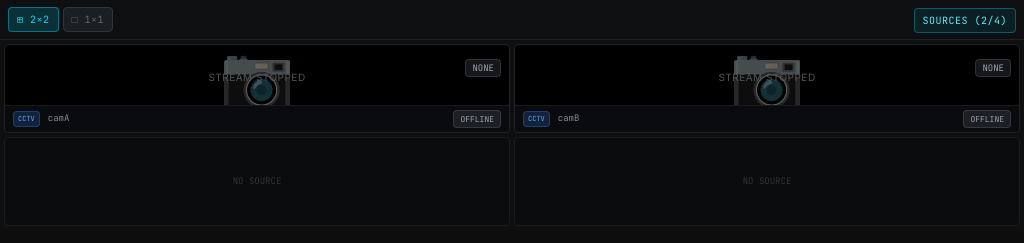
Test: Camera Wall Smoke Tests › Focus Mode › enters and exits focus mode
The image size is (1024, 243).
Note: Enter focus
Step 1. Click the button with test id "camera-tile-cam-a" → point(257, 88), box [4,44,510,133]
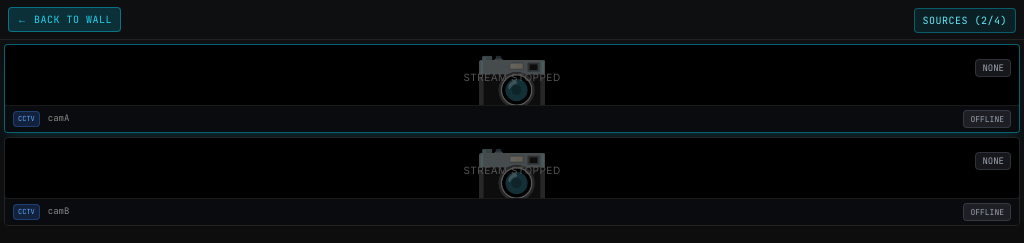
Now the button "← Back to wall" is shown
Note: Exit focus
Step 2. Click the button "← Back to wall" → point(64, 20), box [8,7,121,32]
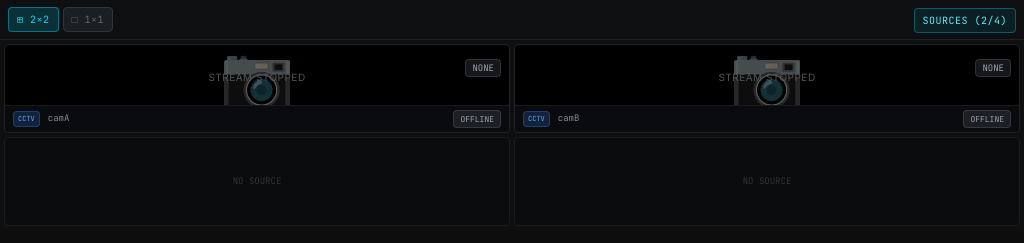
Now the button "← Back to wall" is gone
